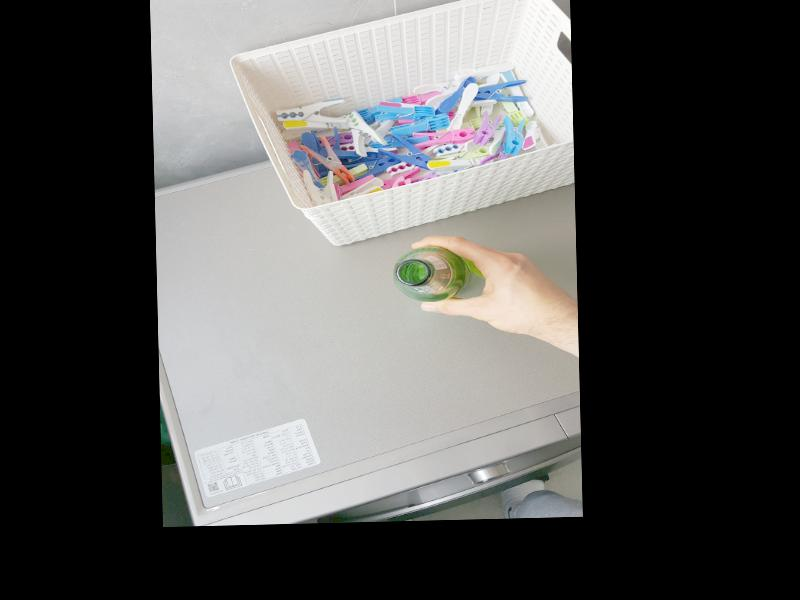Beer: (392, 245, 472, 303)
